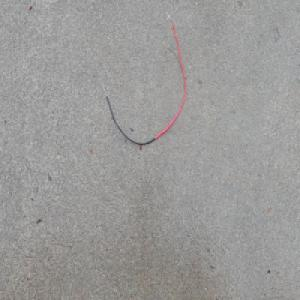Wire: (99, 8, 187, 146)
